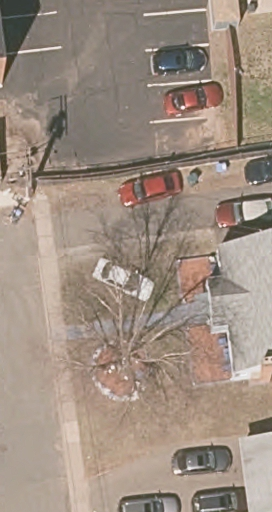DT: (12, 144, 41, 203)
